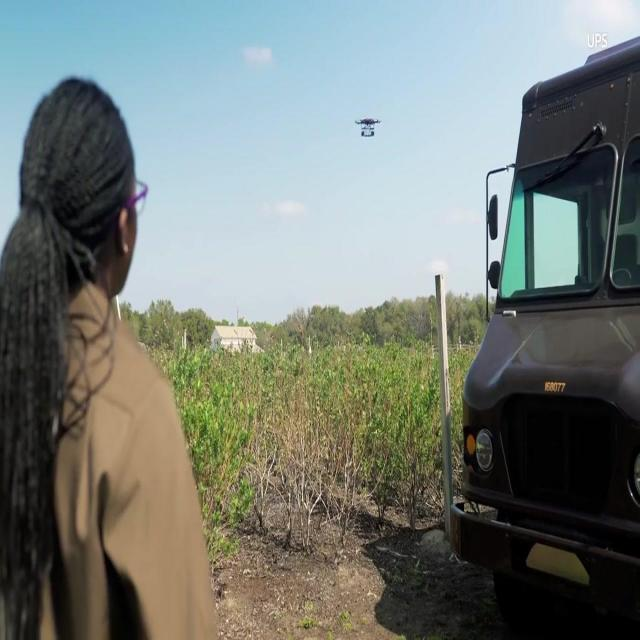UAV: (355, 117, 381, 137)
